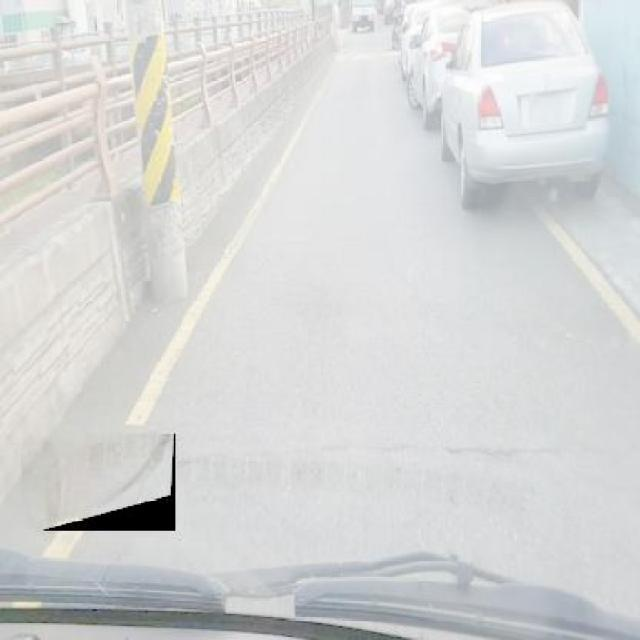Manhole: (42, 434, 176, 531)
Pothole: (440, 436, 563, 466)
